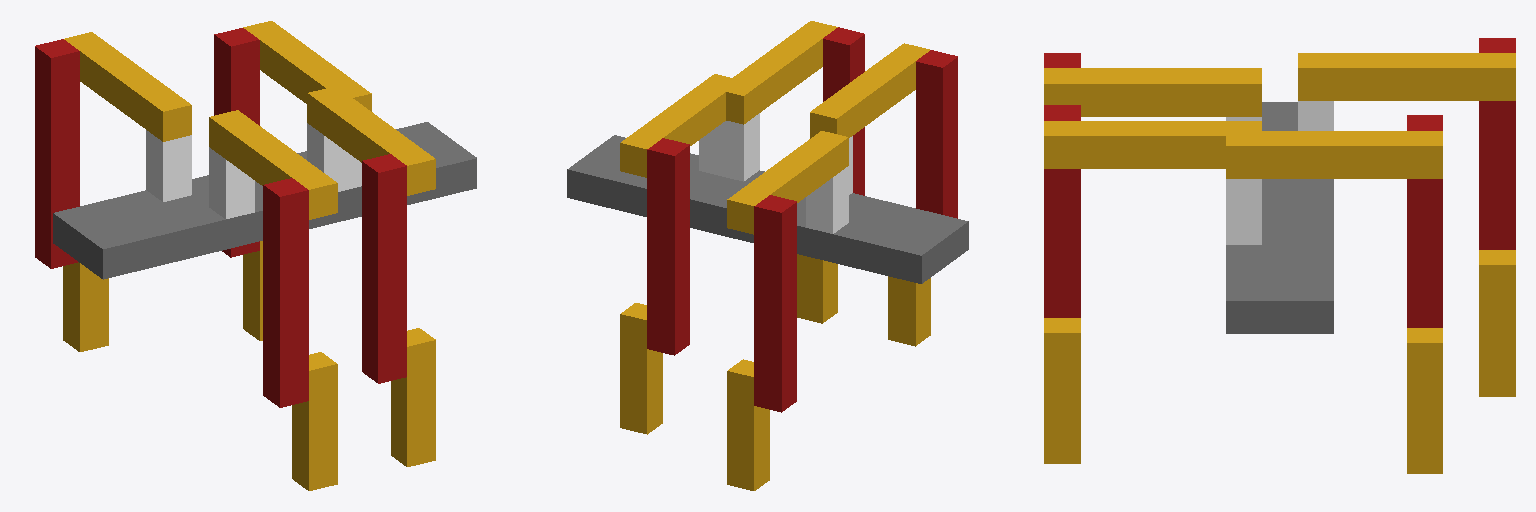
URDF robot description (v0):
<?xml version="1.0" encoding="utf-8"?>
<!-- =================================================================================== -->
<!-- |    This document was autogenerated by xacro from ../robots/v0variants/xacros/v0_4l_27.xacro | -->
<!-- |    EDITING THIS FILE BY HAND IS NOT RECOMMENDED                                 | -->
<!-- =================================================================================== -->
<robot name="v0">
  <material name="grey">
    <color rgba="0.5 0.5 0.5 1"/>
  </material>
  <material name="white">
    <color rgba="1 1 1 1"/>
  </material>
  <material name="yellow">
    <color rgba="0.91 0.7 0.14 1"/>
  </material>
  <material name="red">
    <color rgba="0.71 0.14 0.14 1"/>
  </material>
  <link name="body">
    <visual>
      <geometry>
        <box size="1.3 0.3 0.1"/>
      </geometry>
      <material name="grey"/>
      <origin rpy="0 0 0" xyz="0 0 0.7"/>
    </visual>
    <collision>
      <geometry>
        <box size="1.3 0.3 0.1"/>
      </geometry>
      <origin rpy="0 0 0" xyz="0 0 0.7"/>
    </collision>
    <inertial>
      <mass value="99.84"/>
      <inertia ixx="0.832" ixy="0.0" ixz="0.0" iyy="14.144" iyz="0.0" izz="14.8096"/>
    </inertial>
  </link>
  <link name="l1_segment_1">
    <visual>
      <geometry>
        <box size="0.1 0.1 0.2"/>
      </geometry>
      <material name="white"/>
      <origin rpy="0 0 0" xyz="0 0 0.1"/>
    </visual>
    <collision>
      <geometry>
        <box size="0.1 0.1 0.2"/>
      </geometry>
      <origin rpy="0 0 0" xyz="0 0 0.1"/>
    </collision>
    <inertial>
      <mass value="5.12"/>
      <inertia ixx="0.0213333333333" ixy="0.0" ixz="0.0" iyy="0.0213333333333" iyz="0.0" izz="0.00853333333333"/>
    </inertial>
  </link>
  <joint name="l1_base_to_joint_1" type="fixed">
    <parent link="body"/>
    <child link="l1_segment_1"/>
    <origin rpy="0 0 0" xyz="0.23258538369540316 -0.1 0.75"/>
  </joint>
  <link name="l1_segment_2_HIP">
    <visual>
      <geometry>
        <box size="0.1 0.6 0.1"/>
      </geometry>
      <material name="yellow"/>
      <origin rpy="0 0 0" xyz="0 0.25 0"/>
    </visual>
    <collision>
      <geometry>
        <box size="0.1 0.6 0.1"/>
      </geometry>
      <origin rpy="0 0 0" xyz="0 0.25 0"/>
    </collision>
    <inertial>
      <mass value="15.36"/>
      <inertia ixx="0.4736" ixy="0.0" ixz="0.0" iyy="0.0256" iyz="0.0" izz="0.4736"/>
    </inertial>
  </link>
  <joint name="l1_joint_1_to_2" type="revolute">
    <parent link="l1_segment_1"/>
    <child link="l1_segment_2_HIP"/>
    <origin rpy="0 0 0" xyz="0 0 0.25"/>
    <axis xyz="0.0 0.0 1.0"/>
    <limit effort="2048" lower="-1.2" upper="1.2" velocity="20"/>
  </joint>
  <link name="l1_segment_3_THIGH">
    <visual>
      <geometry>
        <box size="0.1 0.1 0.7"/>
      </geometry>
      <material name="red"/>
      <origin rpy="0 0 0" xyz="0 0 -0.3"/>
    </visual>
    <collision>
      <geometry>
        <box size="0.1 0.1 0.7"/>
      </geometry>
      <origin rpy="0 0 0" xyz="0 0 -0.3"/>
    </collision>
    <inertial>
      <mass value="17.92"/>
      <inertia ixx="0.746666666667" ixy="0.0" ixz="0.0" iyy="0.746666666667" iyz="0.0" izz="0.0298666666667"/>
    </inertial>
  </link>
  <joint name="l1_joint_2_to_3" type="revolute">
    <parent link="l1_segment_2_HIP"/>
    <child link="l1_segment_3_THIGH"/>
    <origin rpy="0 0 0" xyz="-0.1 0.5 0"/>
    <axis xyz="1.0 0.0 0.0"/>
    <limit effort="2048" lower="-0.2" upper="0.75" velocity="20"/>
  </joint>
  <link name="l1_segment_4_FOOT">
    <visual>
      <geometry>
        <box size="0.1 0.1 0.4"/>
      </geometry>
      <material name="yellow"/>
      <origin rpy="0 0 0" xyz="0 0 -0.2"/>
    </visual>
    <collision>
      <geometry>
        <box size="0.1 0.1 0.4"/>
      </geometry>
      <origin rpy="0 0 0" xyz="0 0 -0.2"/>
    </collision>
    <inertial>
      <mass value="10.24"/>
      <inertia ixx="0.145066666667" ixy="0.0" ixz="0.0" iyy="0.145066666667" iyz="0.0" izz="0.0170666666667"/>
    </inertial>
  </link>
  <joint name="l1_joint_3_to_4_FOOT" type="revolute">
    <parent link="l1_segment_3_THIGH"/>
    <child link="l1_segment_4_FOOT"/>
    <origin rpy="0 0 0" xyz="0.1 0 -0.55"/>
    <axis xyz="1.0 0.0 0.0"/>
    <limit effort="2048" lower="-0.2" upper="0.5" velocity="20"/>
  </joint>
  <link name="r2_segment_1">
    <visual>
      <geometry>
        <box size="0.1 0.1 0.2"/>
      </geometry>
      <material name="white"/>
      <origin rpy="0 0 0" xyz="0 0 0.1"/>
    </visual>
    <collision>
      <geometry>
        <box size="0.1 0.1 0.2"/>
      </geometry>
      <origin rpy="0 0 0" xyz="0 0 0.1"/>
    </collision>
    <inertial>
      <mass value="5.12"/>
      <inertia ixx="0.0213333333333" ixy="0.0" ixz="0.0" iyy="0.0213333333333" iyz="0.0" izz="0.00853333333333"/>
    </inertial>
  </link>
  <joint name="r2_base_to_joint_1" type="fixed">
    <parent link="body"/>
    <child link="r2_segment_1"/>
    <origin rpy="0 0 0" xyz="-0.17373234117628 -0.1 0.75"/>
  </joint>
  <link name="r2_segment_2_HIP">
    <visual>
      <geometry>
        <box size="0.1 0.6 0.1"/>
      </geometry>
      <material name="yellow"/>
      <origin rpy="0 0 0" xyz="0 -0.25 0"/>
    </visual>
    <collision>
      <geometry>
        <box size="0.1 0.6 0.1"/>
      </geometry>
      <origin rpy="0 0 0" xyz="0 -0.25 0"/>
    </collision>
    <inertial>
      <mass value="15.36"/>
      <inertia ixx="0.4736" ixy="0.0" ixz="0.0" iyy="0.0256" iyz="0.0" izz="0.4736"/>
    </inertial>
  </link>
  <joint name="r2_joint_1_to_2" type="revolute">
    <parent link="r2_segment_1"/>
    <child link="r2_segment_2_HIP"/>
    <origin rpy="0 0 0" xyz="0 0 0.25"/>
    <axis xyz="0.0 0.0 1.0"/>
    <limit effort="2048" lower="-1.2" upper="1.2" velocity="20"/>
  </joint>
  <link name="r2_segment_3_THIGH">
    <visual>
      <geometry>
        <box size="0.1 0.1 0.7"/>
      </geometry>
      <material name="red"/>
      <origin rpy="0 0 0" xyz="0 0 -0.3"/>
    </visual>
    <collision>
      <geometry>
        <box size="0.1 0.1 0.7"/>
      </geometry>
      <origin rpy="0 0 0" xyz="0 0 -0.3"/>
    </collision>
    <inertial>
      <mass value="17.92"/>
      <inertia ixx="0.746666666667" ixy="0.0" ixz="0.0" iyy="0.746666666667" iyz="0.0" izz="0.0298666666667"/>
    </inertial>
  </link>
  <joint name="r2_joint_2_to_3" type="revolute">
    <parent link="r2_segment_2_HIP"/>
    <child link="r2_segment_3_THIGH"/>
    <origin rpy="0 0 0" xyz="-0.1 -0.5 0"/>
    <axis xyz="1.0 0.0 0.0"/>
    <limit effort="2048" lower="-0.75" upper="0.2" velocity="20"/>
  </joint>
  <link name="r2_segment_4_FOOT">
    <visual>
      <geometry>
        <box size="0.1 0.1 0.4"/>
      </geometry>
      <material name="yellow"/>
      <origin rpy="0 0 0" xyz="0 0 -0.2"/>
    </visual>
    <collision>
      <geometry>
        <box size="0.1 0.1 0.4"/>
      </geometry>
      <origin rpy="0 0 0" xyz="0 0 -0.2"/>
    </collision>
    <inertial>
      <mass value="10.24"/>
      <inertia ixx="0.145066666667" ixy="0.0" ixz="0.0" iyy="0.145066666667" iyz="0.0" izz="0.0170666666667"/>
    </inertial>
  </link>
  <joint name="r2_joint_3_to_4_FOOT" type="revolute">
    <parent link="r2_segment_3_THIGH"/>
    <child link="r2_segment_4_FOOT"/>
    <origin rpy="0 0 0" xyz="0.1 0 -0.55"/>
    <axis xyz="1.0 0.0 0.0"/>
    <limit effort="2048" lower="-0.5" upper="0.2" velocity="20"/>
  </joint>
  <link name="l3_segment_1">
    <visual>
      <geometry>
        <box size="0.1 0.1 0.2"/>
      </geometry>
      <material name="white"/>
      <origin rpy="0 0 0" xyz="0 0 0.1"/>
    </visual>
    <collision>
      <geometry>
        <box size="0.1 0.1 0.2"/>
      </geometry>
      <origin rpy="0 0 0" xyz="0 0 0.1"/>
    </collision>
    <inertial>
      <mass value="5.12"/>
      <inertia ixx="0.0213333333333" ixy="0.0" ixz="0.0" iyy="0.0213333333333" iyz="0.0" izz="0.00853333333333"/>
    </inertial>
  </link>
  <joint name="l3_base_to_joint_1" type="fixed">
    <parent link="body"/>
    <child link="l3_segment_1"/>
    <origin rpy="0 0 0" xyz="-0.2756217417356995 0.1 0.75"/>
  </joint>
  <link name="l3_segment_2_HIP">
    <visual>
      <geometry>
        <box size="0.1 0.6 0.1"/>
      </geometry>
      <material name="yellow"/>
      <origin rpy="0 0 0" xyz="0 0.25 0"/>
    </visual>
    <collision>
      <geometry>
        <box size="0.1 0.6 0.1"/>
      </geometry>
      <origin rpy="0 0 0" xyz="0 0.25 0"/>
    </collision>
    <inertial>
      <mass value="15.36"/>
      <inertia ixx="0.4736" ixy="0.0" ixz="0.0" iyy="0.0256" iyz="0.0" izz="0.4736"/>
    </inertial>
  </link>
  <joint name="l3_joint_1_to_2" type="revolute">
    <parent link="l3_segment_1"/>
    <child link="l3_segment_2_HIP"/>
    <origin rpy="0 0 0" xyz="0 0 0.25"/>
    <axis xyz="0.0 0.0 1.0"/>
    <limit effort="2048" lower="-1.2" upper="1.2" velocity="20"/>
  </joint>
  <link name="l3_segment_3_THIGH">
    <visual>
      <geometry>
        <box size="0.1 0.1 0.7"/>
      </geometry>
      <material name="red"/>
      <origin rpy="0 0 0" xyz="0 0 -0.3"/>
    </visual>
    <collision>
      <geometry>
        <box size="0.1 0.1 0.7"/>
      </geometry>
      <origin rpy="0 0 0" xyz="0 0 -0.3"/>
    </collision>
    <inertial>
      <mass value="17.92"/>
      <inertia ixx="0.746666666667" ixy="0.0" ixz="0.0" iyy="0.746666666667" iyz="0.0" izz="0.0298666666667"/>
    </inertial>
  </link>
  <joint name="l3_joint_2_to_3" type="revolute">
    <parent link="l3_segment_2_HIP"/>
    <child link="l3_segment_3_THIGH"/>
    <origin rpy="0 0 0" xyz="-0.1 0.5 0"/>
    <axis xyz="1.0 0.0 0.0"/>
    <limit effort="2048" lower="-0.2" upper="0.75" velocity="20"/>
  </joint>
  <link name="l3_segment_4_FOOT">
    <visual>
      <geometry>
        <box size="0.1 0.1 0.4"/>
      </geometry>
      <material name="yellow"/>
      <origin rpy="0 0 0" xyz="0 0 -0.2"/>
    </visual>
    <collision>
      <geometry>
        <box size="0.1 0.1 0.4"/>
      </geometry>
      <origin rpy="0 0 0" xyz="0 0 -0.2"/>
    </collision>
    <inertial>
      <mass value="10.24"/>
      <inertia ixx="0.145066666667" ixy="0.0" ixz="0.0" iyy="0.145066666667" iyz="0.0" izz="0.0170666666667"/>
    </inertial>
  </link>
  <joint name="l3_joint_3_to_4_FOOT" type="revolute">
    <parent link="l3_segment_3_THIGH"/>
    <child link="l3_segment_4_FOOT"/>
    <origin rpy="0 0 0" xyz="0.1 0 -0.55"/>
    <axis xyz="1.0 0.0 0.0"/>
    <limit effort="2048" lower="-0.2" upper="0.5" velocity="20"/>
  </joint>
  <link name="r4_segment_1">
    <visual>
      <geometry>
        <box size="0.1 0.1 0.2"/>
      </geometry>
      <material name="white"/>
      <origin rpy="0 0 0" xyz="0 0 0.1"/>
    </visual>
    <collision>
      <geometry>
        <box size="0.1 0.1 0.2"/>
      </geometry>
      <origin rpy="0 0 0" xyz="0 0 0.1"/>
    </collision>
    <inertial>
      <mass value="5.12"/>
      <inertia ixx="0.0213333333333" ixy="0.0" ixz="0.0" iyy="0.0213333333333" iyz="0.0" izz="0.00853333333333"/>
    </inertial>
  </link>
  <joint name="r4_base_to_joint_1" type="fixed">
    <parent link="body"/>
    <child link="r4_segment_1"/>
    <origin rpy="0 0 0" xyz="0.16755205791394412 -0.1 0.75"/>
  </joint>
  <link name="r4_segment_2_HIP">
    <visual>
      <geometry>
        <box size="0.1 0.6 0.1"/>
      </geometry>
      <material name="yellow"/>
      <origin rpy="0 0 0" xyz="0 -0.25 0"/>
    </visual>
    <collision>
      <geometry>
        <box size="0.1 0.6 0.1"/>
      </geometry>
      <origin rpy="0 0 0" xyz="0 -0.25 0"/>
    </collision>
    <inertial>
      <mass value="15.36"/>
      <inertia ixx="0.4736" ixy="0.0" ixz="0.0" iyy="0.0256" iyz="0.0" izz="0.4736"/>
    </inertial>
  </link>
  <joint name="r4_joint_1_to_2" type="revolute">
    <parent link="r4_segment_1"/>
    <child link="r4_segment_2_HIP"/>
    <origin rpy="0 0 0" xyz="0 0 0.25"/>
    <axis xyz="0.0 0.0 1.0"/>
    <limit effort="2048" lower="-1.2" upper="1.2" velocity="20"/>
  </joint>
  <link name="r4_segment_3_THIGH">
    <visual>
      <geometry>
        <box size="0.1 0.1 0.7"/>
      </geometry>
      <material name="red"/>
      <origin rpy="0 0 0" xyz="0 0 -0.3"/>
    </visual>
    <collision>
      <geometry>
        <box size="0.1 0.1 0.7"/>
      </geometry>
      <origin rpy="0 0 0" xyz="0 0 -0.3"/>
    </collision>
    <inertial>
      <mass value="17.92"/>
      <inertia ixx="0.746666666667" ixy="0.0" ixz="0.0" iyy="0.746666666667" iyz="0.0" izz="0.0298666666667"/>
    </inertial>
  </link>
  <joint name="r4_joint_2_to_3" type="revolute">
    <parent link="r4_segment_2_HIP"/>
    <child link="r4_segment_3_THIGH"/>
    <origin rpy="0 0 0" xyz="-0.1 -0.5 0"/>
    <axis xyz="1.0 0.0 0.0"/>
    <limit effort="2048" lower="-0.75" upper="0.2" velocity="20"/>
  </joint>
  <link name="r4_segment_4_FOOT">
    <visual>
      <geometry>
        <box size="0.1 0.1 0.4"/>
      </geometry>
      <material name="yellow"/>
      <origin rpy="0 0 0" xyz="0 0 -0.2"/>
    </visual>
    <collision>
      <geometry>
        <box size="0.1 0.1 0.4"/>
      </geometry>
      <origin rpy="0 0 0" xyz="0 0 -0.2"/>
    </collision>
    <inertial>
      <mass value="10.24"/>
      <inertia ixx="0.145066666667" ixy="0.0" ixz="0.0" iyy="0.145066666667" iyz="0.0" izz="0.0170666666667"/>
    </inertial>
  </link>
  <joint name="r4_joint_3_to_4_FOOT" type="revolute">
    <parent link="r4_segment_3_THIGH"/>
    <child link="r4_segment_4_FOOT"/>
    <origin rpy="0 0 0" xyz="0.1 0 -0.55"/>
    <axis xyz="1.0 0.0 0.0"/>
    <limit effort="2048" lower="-0.5" upper="0.2" velocity="20"/>
  </joint>
</robot>

--- Facts derived from the render (not from the file) ---
Views: 3 orthographic renders of the robot side by side, from view 1: azimuth 30°, elevation 25°; view 2: azimuth 150°, elevation 25°; view 3: azimuth 270°, elevation 25°.
Robot: v0 — 17 links, 16 joints (12 revolute, 4 fixed); root link body; default pose: all joints at 0.
Links seen in each view (by area): view 1: body, r2_segment_3_THIGH, r4_segment_3_THIGH, l3_segment_3_THIGH, l3_segment_2_HIP, r2_segment_2_HIP, r4_segment_2_HIP, r2_segment_4_FOOT, r4_segment_4_FOOT, l1_segment_2_HIP, l1_segment_3_THIGH, l3_segment_4_FOOT (+5 smaller); view 2: body, l1_segment_3_THIGH, l3_segment_3_THIGH, r2_segment_3_THIGH, r2_segment_2_HIP, r4_segment_2_HIP, l3_segment_2_HIP, l1_segment_2_HIP, l3_segment_4_FOOT, l1_segment_4_FOOT, r4_segment_3_THIGH, r2_segment_4_FOOT (+4 smaller); view 3: body, l3_segment_2_HIP, r2_segment_2_HIP, l1_segment_2_HIP, r4_segment_2_HIP, r4_segment_3_THIGH, l3_segment_3_THIGH, l1_segment_3_THIGH, l3_segment_4_FOOT, r4_segment_4_FOOT, l1_segment_4_FOOT, l1_segment_1 (+2 smaller).
Link boxes in pixels (left/top/right/bottom): body: left=53, top=122, right=476, bottom=279; r2_segment_3_THIGH: left=263, top=178, right=308, bottom=407; r4_segment_3_THIGH: left=362, top=154, right=406, bottom=383; l3_segment_3_THIGH: left=35, top=39, right=79, bottom=268; l3_segment_2_HIP: left=64, top=32, right=191, bottom=141; r2_segment_2_HIP: left=209, top=110, right=337, bottom=219; r4_segment_2_HIP: left=307, top=89, right=435, bottom=195; r2_segment_4_FOOT: left=292, top=352, right=337, bottom=490; r4_segment_4_FOOT: left=391, top=328, right=435, bottom=466; l1_segment_2_HIP: left=243, top=21, right=371, bottom=111; l1_segment_3_THIGH: left=214, top=28, right=259, bottom=257; l3_segment_4_FOOT: left=63, top=262, right=108, bottom=351; body: left=567, top=135, right=968, bottom=283; l1_segment_3_THIGH: left=647, top=138, right=689, bottom=355; l3_segment_3_THIGH: left=754, top=195, right=796, bottom=412; r2_segment_3_THIGH: left=916, top=50, right=957, bottom=218; r2_segment_2_HIP: left=810, top=43, right=929, bottom=138; r4_segment_2_HIP: left=726, top=21, right=837, bottom=124; l3_segment_2_HIP: left=727, top=131, right=848, bottom=234; l1_segment_2_HIP: left=620, top=74, right=741, bottom=177; l3_segment_4_FOOT: left=727, top=359, right=769, bottom=490; l1_segment_4_FOOT: left=620, top=303, right=662, bottom=434; r4_segment_3_THIGH: left=823, top=27, right=864, bottom=195; r2_segment_4_FOOT: left=888, top=276, right=930, bottom=346; body: left=1226, top=102, right=1333, bottom=333; l3_segment_2_HIP: left=1298, top=53, right=1515, bottom=100; r2_segment_2_HIP: left=1044, top=68, right=1261, bottom=116; l1_segment_2_HIP: left=1226, top=131, right=1442, bottom=178; r4_segment_2_HIP: left=1044, top=121, right=1261, bottom=168; r4_segment_3_THIGH: left=1044, top=105, right=1080, bottom=317; l3_segment_3_THIGH: left=1479, top=38, right=1515, bottom=249; l1_segment_3_THIGH: left=1407, top=115, right=1442, bottom=327; l3_segment_4_FOOT: left=1479, top=250, right=1515, bottom=396; r4_segment_4_FOOT: left=1044, top=318, right=1080, bottom=463; l1_segment_4_FOOT: left=1407, top=328, right=1442, bottom=473; l1_segment_1: left=1226, top=179, right=1261, bottom=244.
Size in the robot's own frame: 1.3 by 1.3 by 1 metres.
Geometry: primitives only (box / cylinder / sphere), no mesh files.